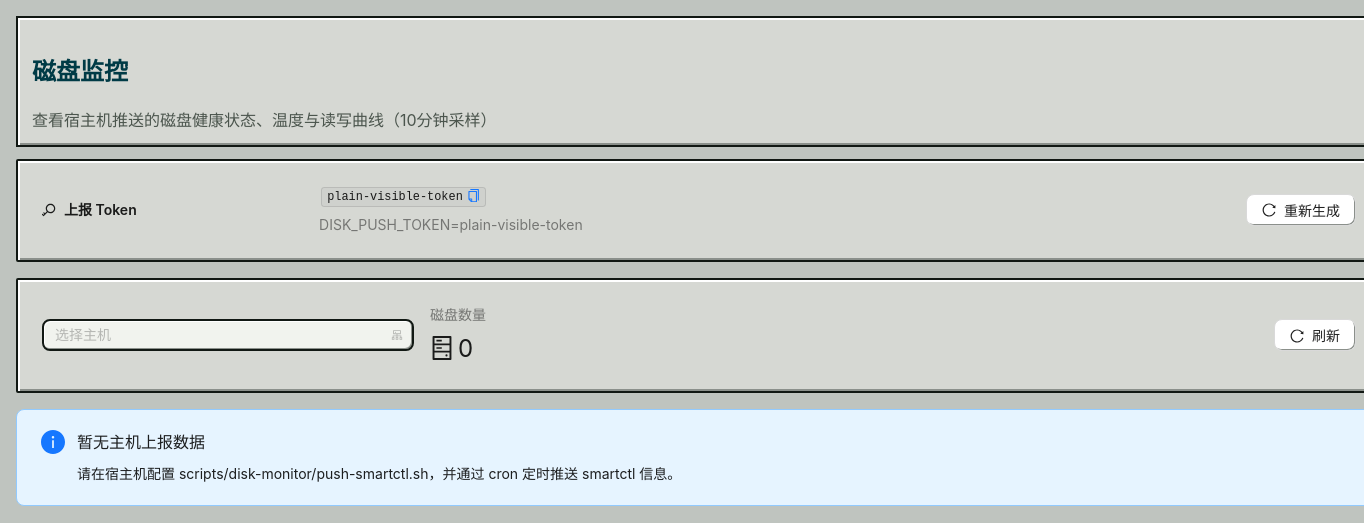
shows push token in plaintext and updates it after regeneration
The image size is (1364, 523).
Expected: the text "plain-visible-token" is shown, [322,187,486,207]
Click the button "重新生成" at (1301, 210), box [1246,194,1356,226]
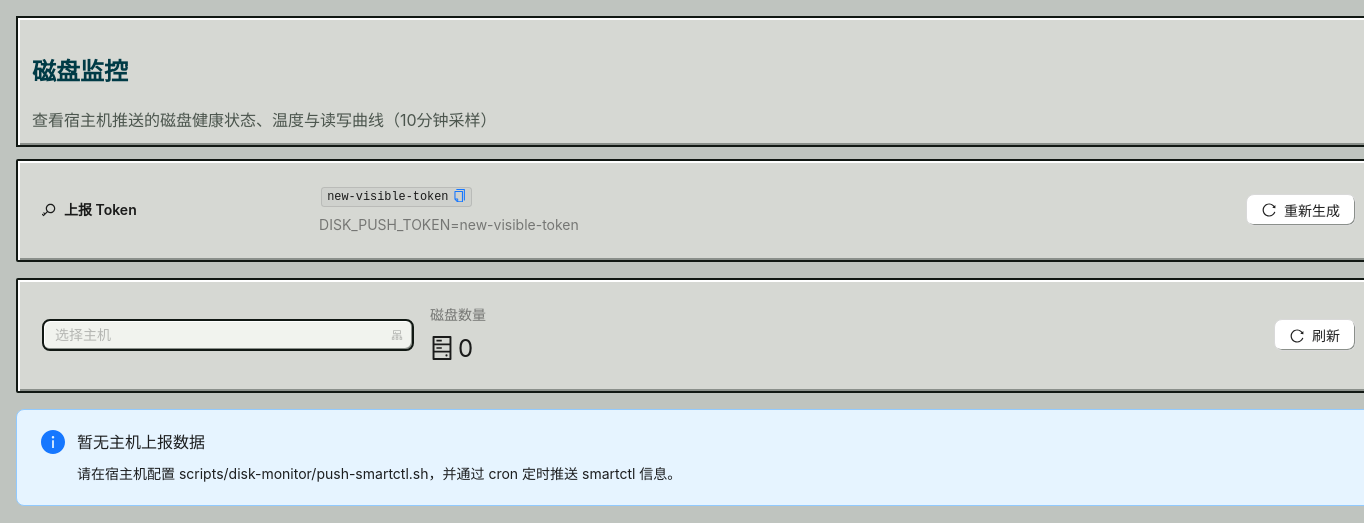
Expected: the text "new-visible-token" is shown, [322,187,472,207]
